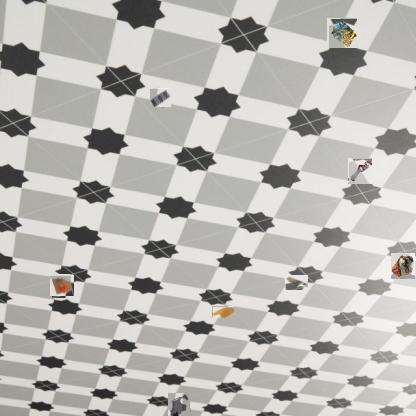dirty: (328, 18, 358, 48), (391, 253, 415, 279), (348, 158, 372, 184), (51, 275, 74, 297), (150, 87, 171, 108), (285, 275, 308, 292)
liquid: (167, 393, 190, 416), (212, 306, 234, 318)
